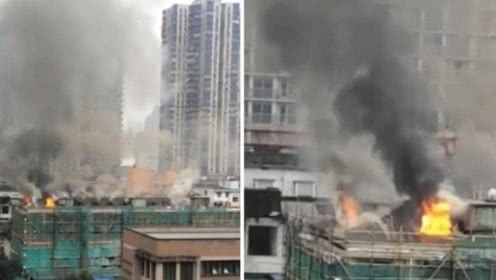fire: (414, 195, 454, 237), (336, 192, 360, 226), (42, 191, 60, 209)
